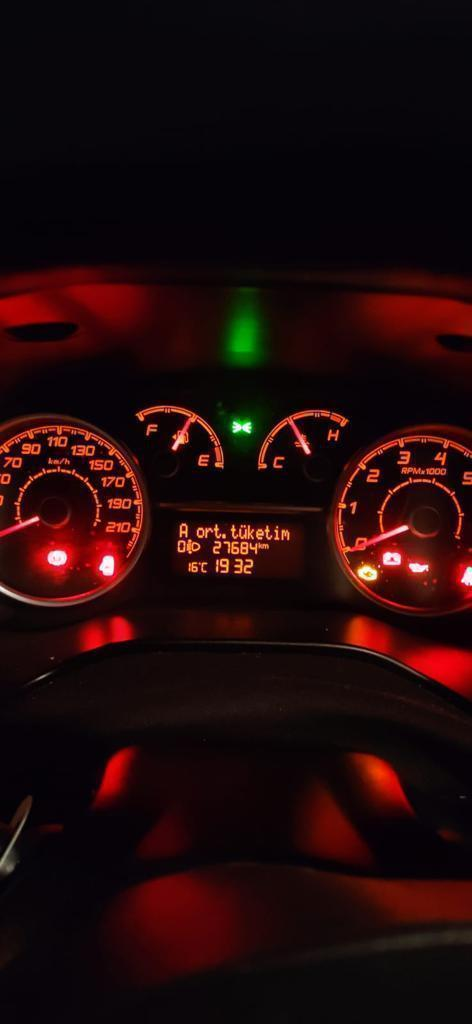,: (221, 532, 227, 538)
0: (177, 539, 185, 553)
1: (215, 558, 218, 574), (188, 561, 190, 573)
2: (243, 558, 253, 574), (212, 540, 221, 554)
3: (233, 558, 243, 573)
4: (249, 542, 257, 554)
6: (231, 541, 239, 554), (191, 561, 198, 572)
7: (223, 540, 230, 554)
8: (239, 541, 248, 554)
9: (219, 557, 229, 573)
X: (264, 524, 273, 540), (179, 522, 188, 538), (230, 523, 238, 539), (273, 523, 280, 541), (239, 524, 247, 539), (247, 523, 254, 539), (281, 527, 289, 541), (213, 523, 220, 538), (204, 527, 213, 538), (255, 527, 263, 539), (200, 561, 208, 572), (196, 527, 204, 538), (262, 542, 269, 549), (258, 541, 262, 549)
odometer: (160, 512, 313, 582)
